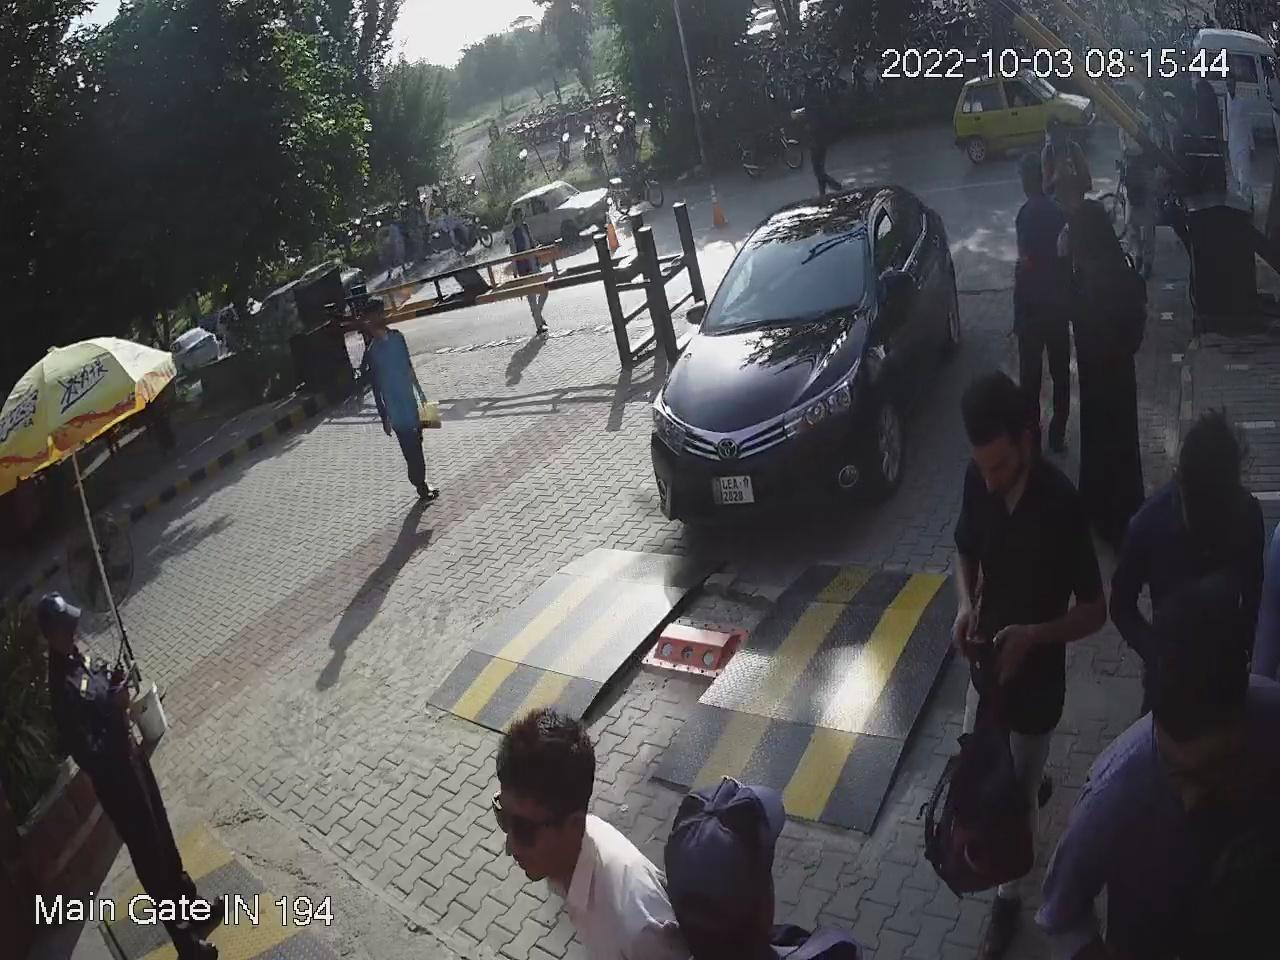windshield: (706, 200, 866, 333)
